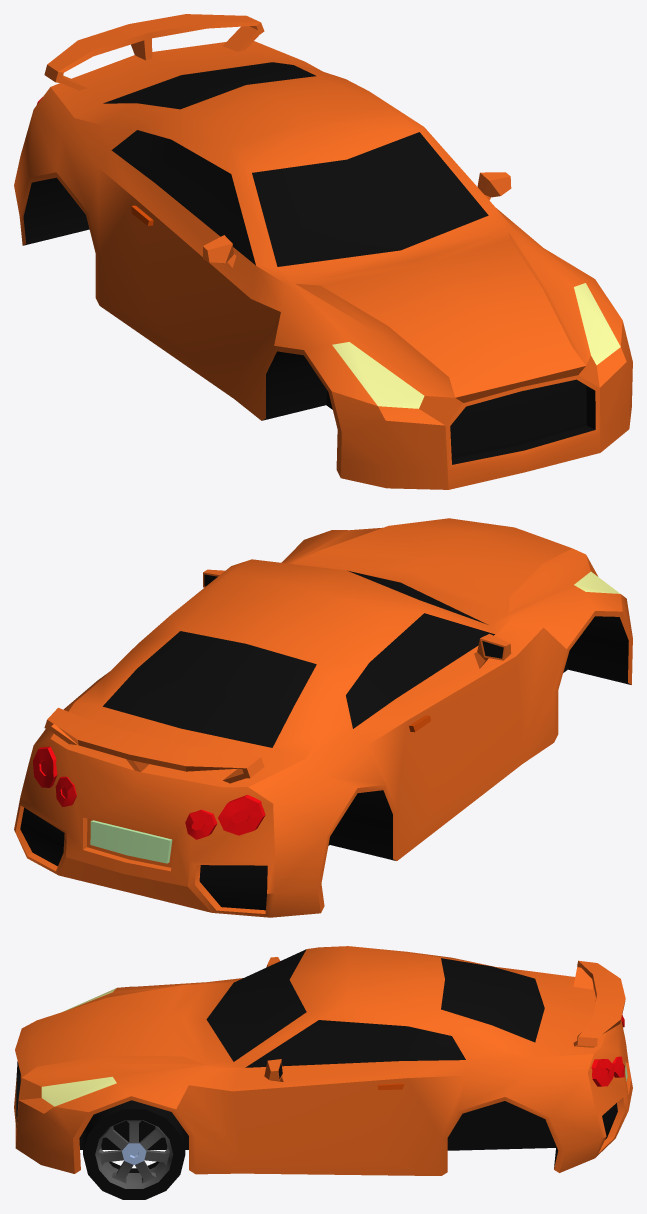
File: car.fbx
3 views of the same model, one above another, from view 1: azimuth 30°, elevation 25°; view 2: azimuth 150°, elevation 25°; view 3: azimuth 270°, elevation 25° (orthographic). The views are drawn at different scales.
Visible parts, largest first — view 1: Vert; view 2: Vert; view 3: Vert, Vert.001.
Boxes of the visible parts, x1=… form: Vert: x1=14, y1=14, x2=632, y2=489; Vert: x1=14, y1=518, x2=632, y2=917; Vert: x1=14, y1=946, x2=632, y2=1175; Vert.001: x1=83, y1=1100, x2=185, y2=1199.
Size of the model in its own units: 2 by 1.41 by 4.59.
